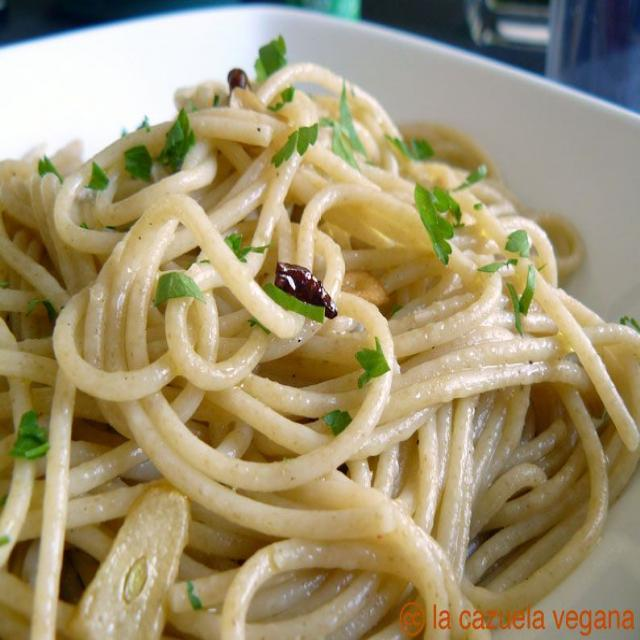Oil pasta: (38, 60, 640, 572)
